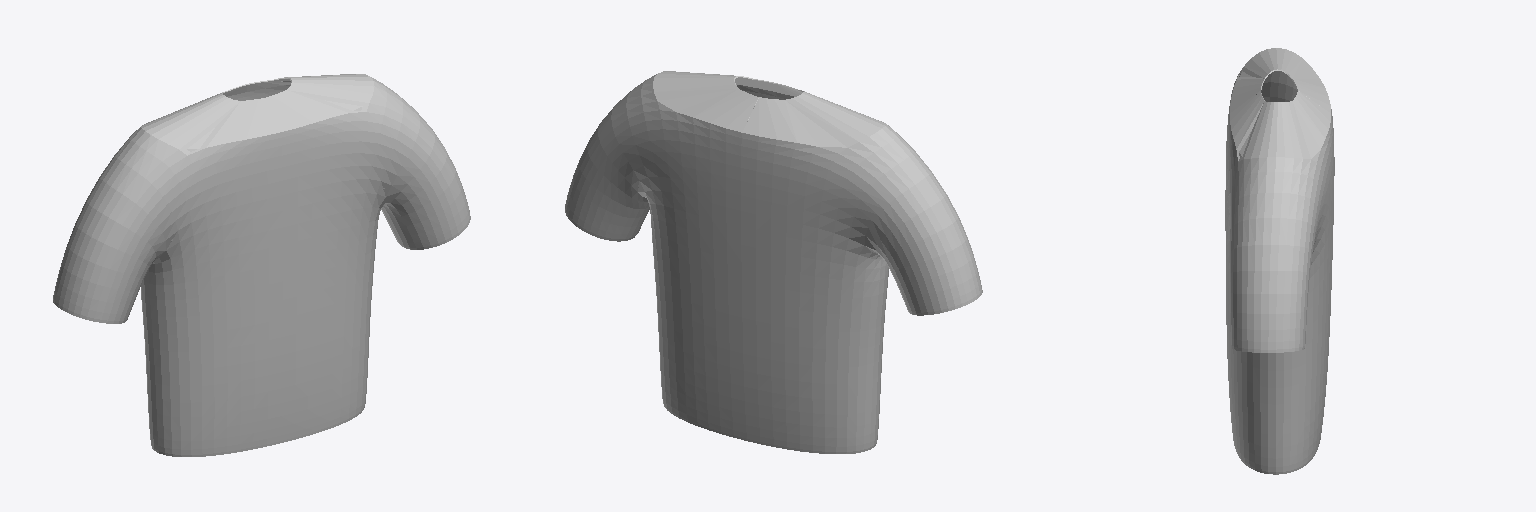
File: hack.obj
3 renders of one model, left to right at view 1: azimuth 30°, elevation 25°; view 2: azimuth 150°, elevation 25°; view 3: azimuth 270°, elevation 25°, orthographic.
Visible parts, largest first — view 1: Cube_Cube.001; view 2: Cube_Cube.001; view 3: Cube_Cube.001.
Boxes of the visible parts, <box> form: Cube_Cube.001: <box>53,74,470,456</box>; Cube_Cube.001: <box>565,71,982,453</box>; Cube_Cube.001: <box>1225,48,1334,474</box>.
Size of the model in its own units: 2.52 by 2.01 by 0.5839.